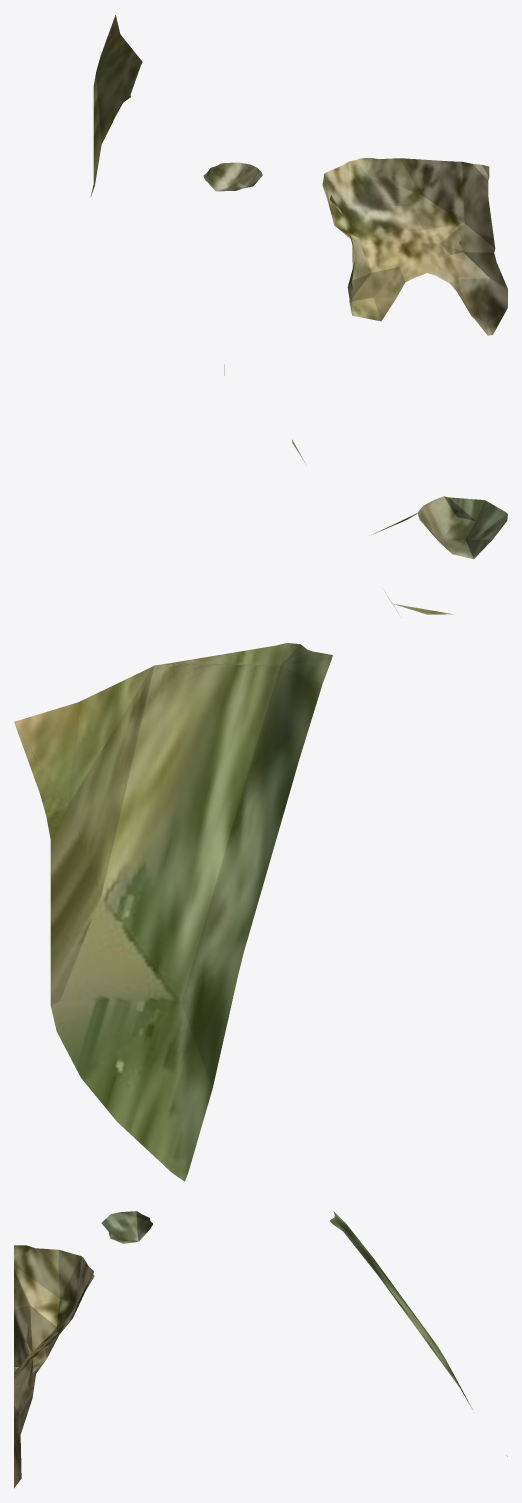
3 renders of one model, top to bottom at view 1: azimuth 30°, elevation 25°; view 2: azimuth 150°, elevation 25°; view 3: azimuth 270°, elevation 25°, orthographic. The views are drawn at different scales.
Size of the model in its own units: 1.67 by 1.62 by 2.95.
1 material, 1 textured.
